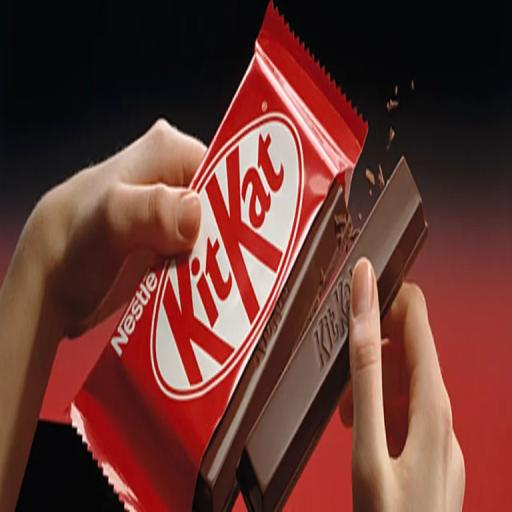kitkat: (71, 33, 359, 498)
